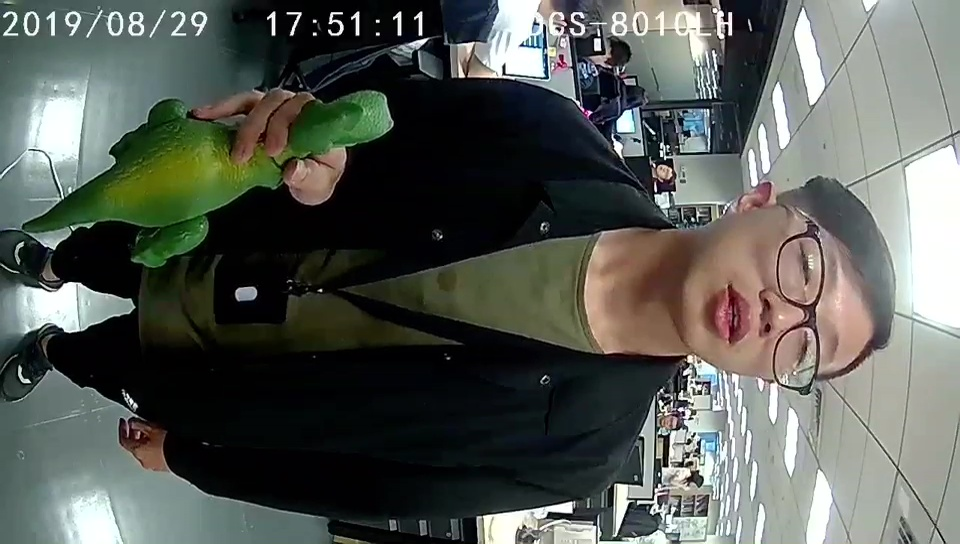rex: (97, 88, 396, 269)
